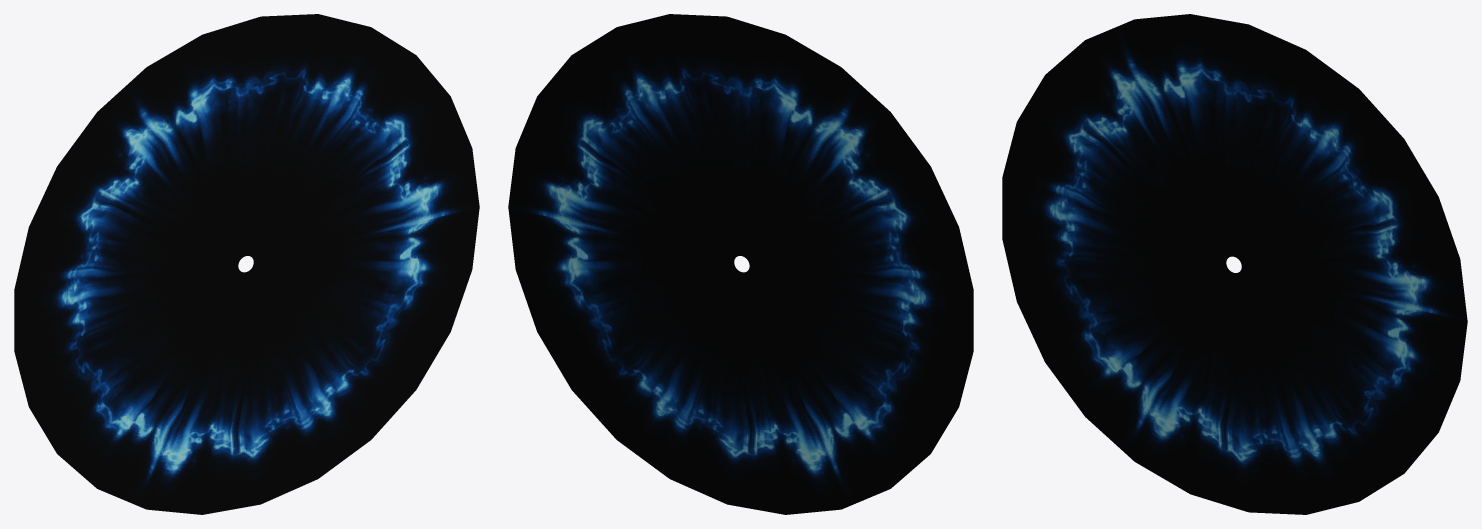
Rendered from radial_plane_01.FBX.
3 renders of one model, left to right at view 1: azimuth 30°, elevation 25°; view 2: azimuth 150°, elevation 25°; view 3: azimuth 330°, elevation 25°, orthographic.
Visible parts, largest first — view 1: Plane02; view 2: Plane02; view 3: Plane02.
Part boxes in pixels (x1,y1,x2,y2): Plane02: [14, 14, 479, 514]; Plane02: [508, 14, 973, 514]; Plane02: [1002, 14, 1467, 514].
Size of the model in its own units: 19.95 by 19.99 by 6.32e-06.
